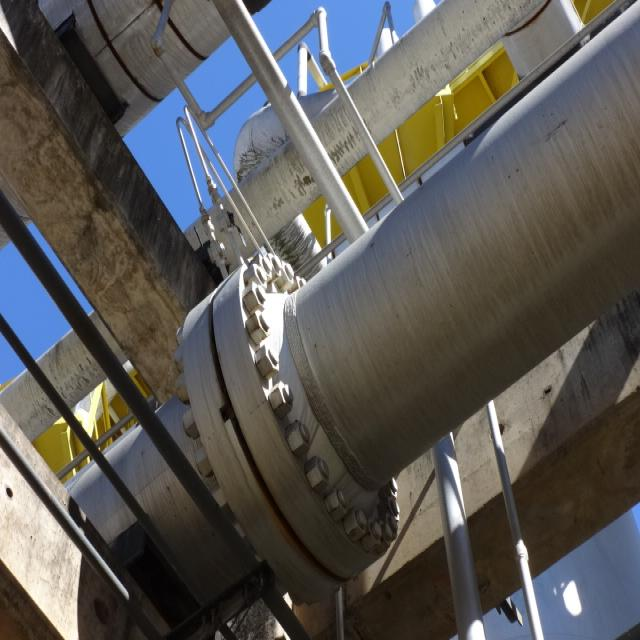gas: (73, 0, 640, 622), (189, 0, 538, 272), (7, 313, 125, 442)
